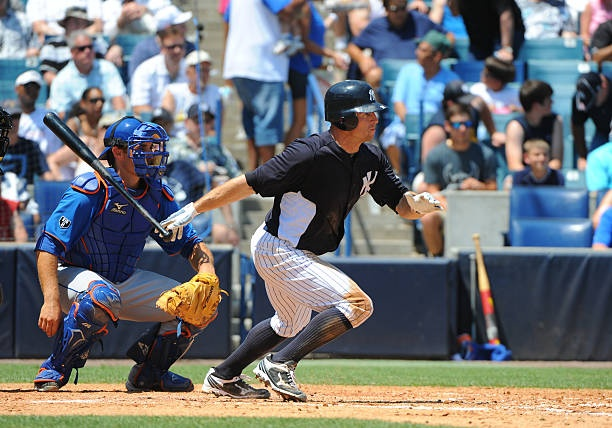bita: (44, 115, 173, 236)
